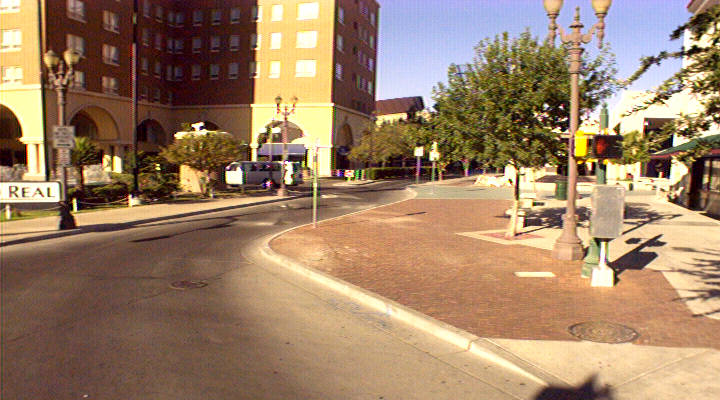Ramp: (438, 327, 720, 399)
